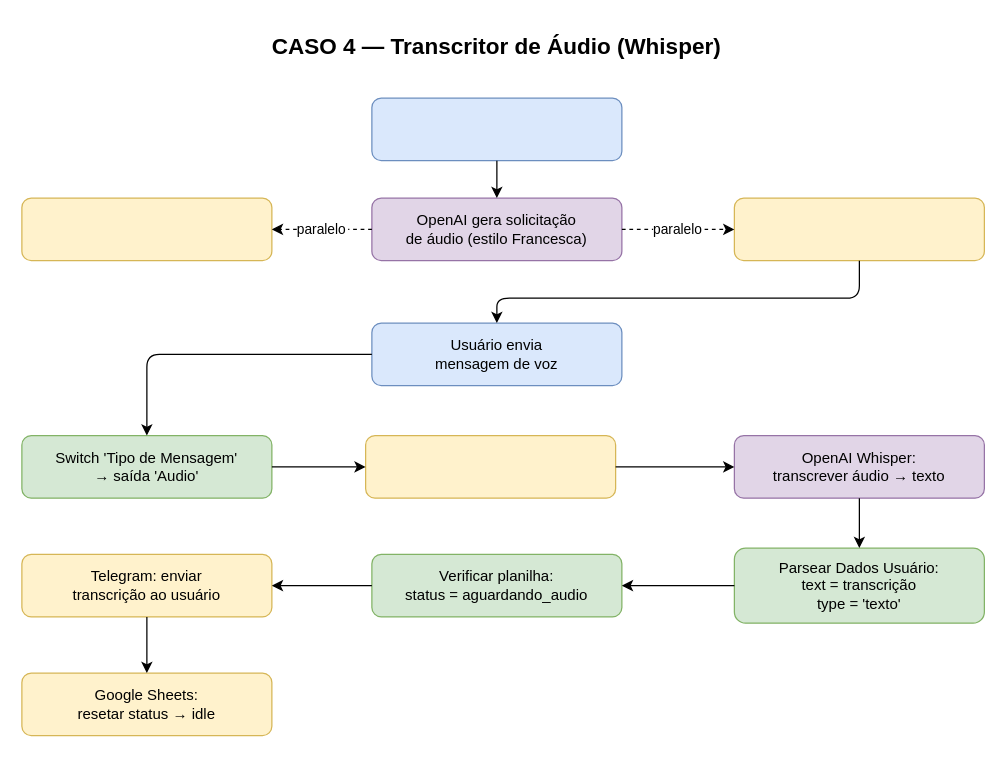
Some shapes in this 1006 by 758 pixel diagram are drawn without their labels. The shapes that lost their labels are listed below. From the top down, each one's box as (x1, y1, x2, y2) in pixels, then its label:
(371, 97, 622, 161): Usuário clica 'Passar Escuta a Limpo'
(21, 197, 272, 261): Atualizar status → aguardando_audio
(733, 197, 984, 261): Telegram: enviar solicitação ao usuário
(364, 434, 616, 498): Telegram API: baixar arquivo de áudio
